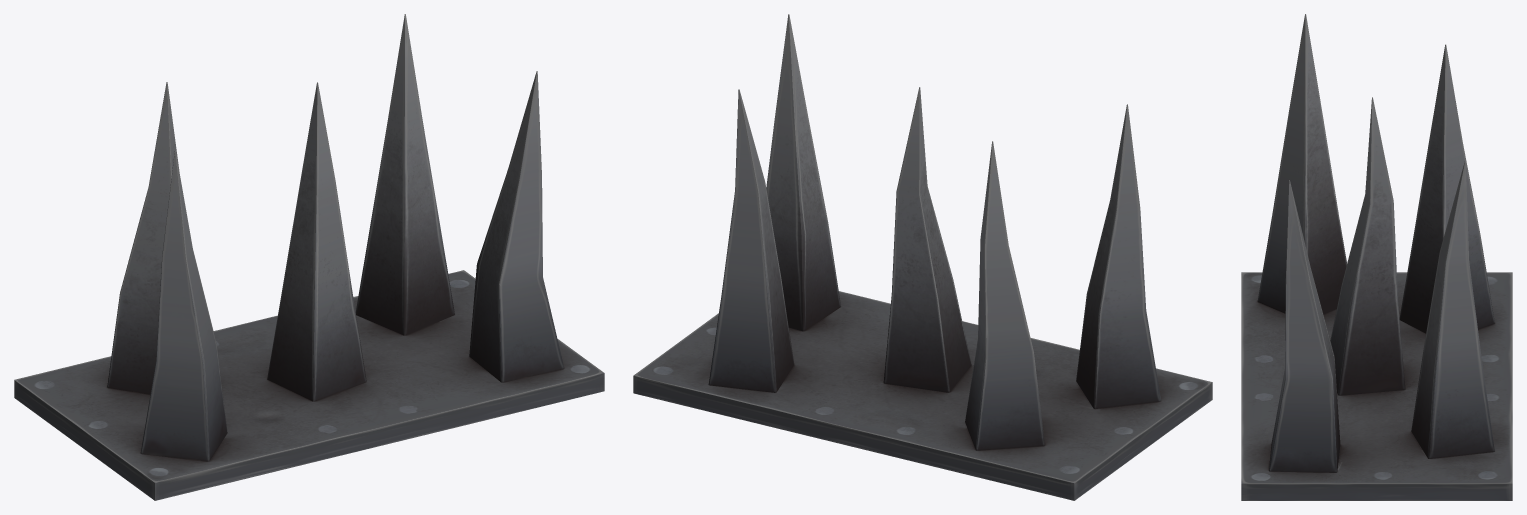
File: Trap2.fbx
3 views of the same model, side by side, from view 1: azimuth 30°, elevation 25°; view 2: azimuth 150°, elevation 25°; view 3: azimuth 270°, elevation 25° (orthographic). The views are drawn at different scales.
Parts seen in each view (by area): view 1: Trap2; view 2: Trap2; view 3: Trap2.
Boxes of the visible parts, x1,y1,x2,y2 form: Trap2: (14, 14, 604, 500); Trap2: (633, 14, 1212, 500); Trap2: (1241, 14, 1512, 500).
Bounding box in the file's own units: 196 × 130 × 107.
